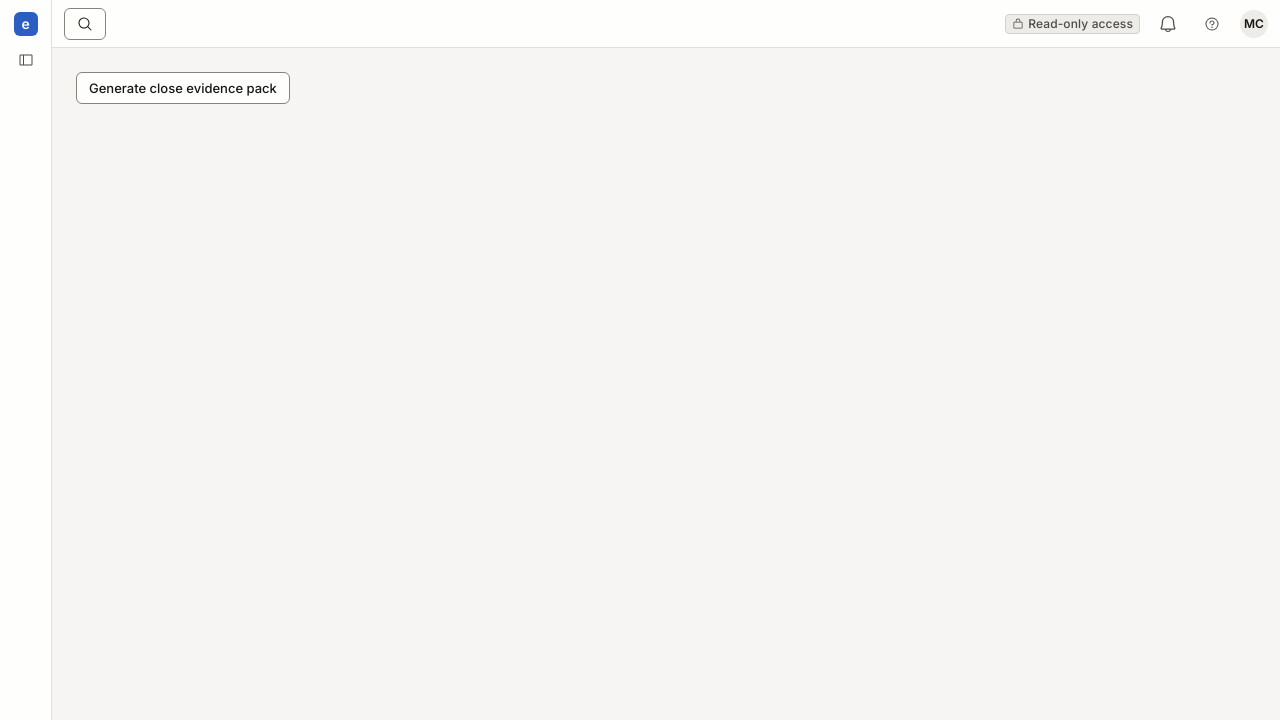
Test: requires every export permission in the chosen entity scope
The image size is (1280, 720).
Click the button "Generate close evidence pack".
click(183, 88)  # box 76,72 -> 290,104
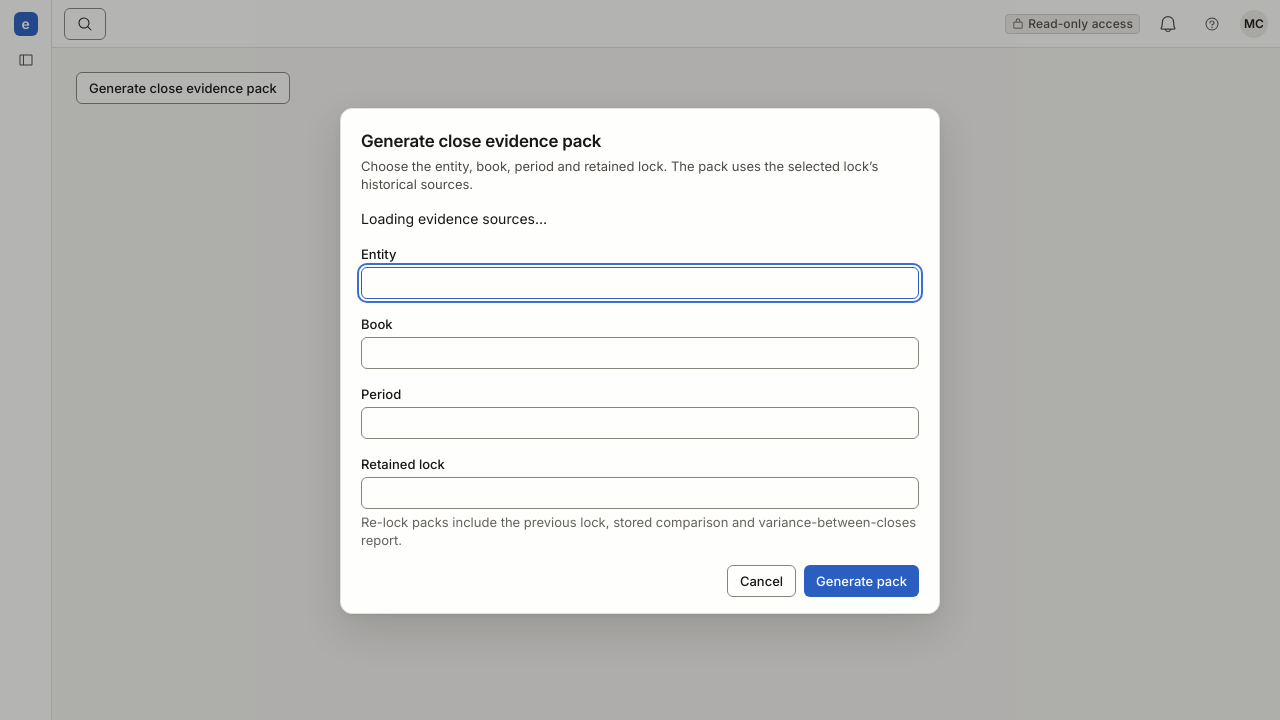
Press ArrowDown in the dropdown labelled "Entity", box 361,267 -> 919,299
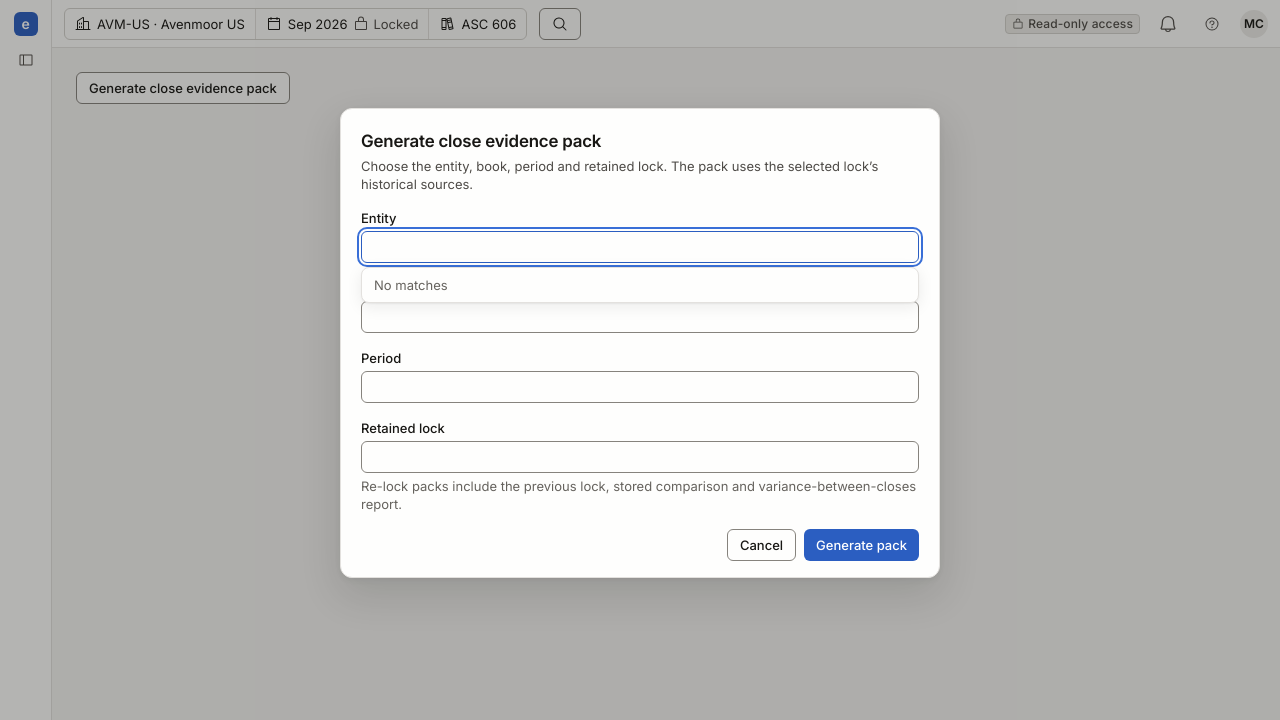
Expected: the text "No matches" is shown, 361,267 -> 919,303
